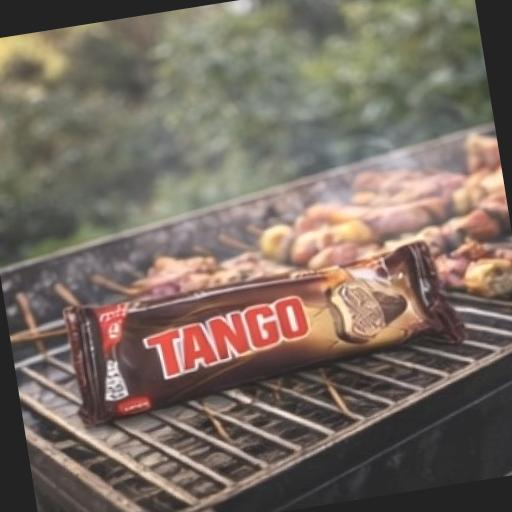tango: (32, 194, 492, 456)
